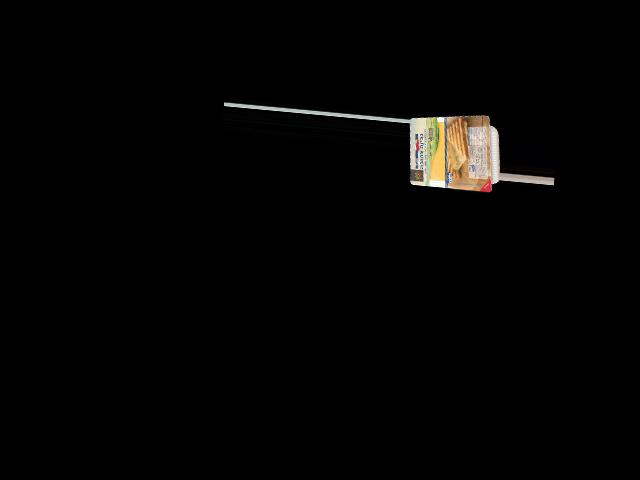cheese: (405, 110, 505, 190)
